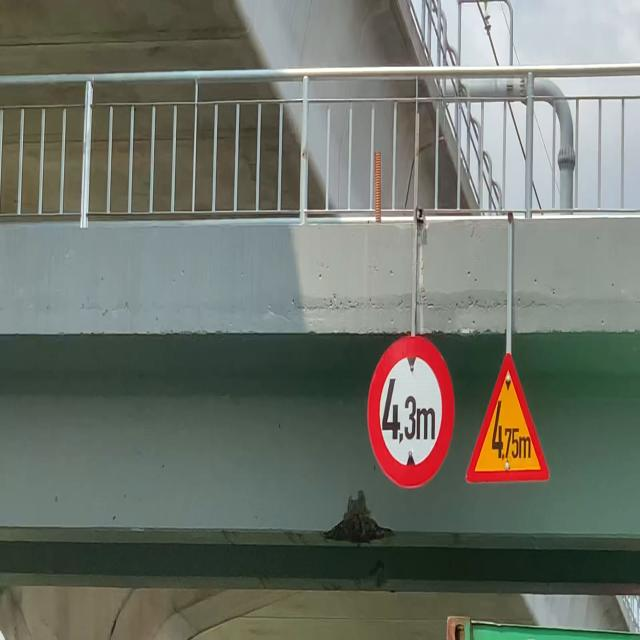Chieu cao toi da: (363, 337, 462, 488)
Nguy hiem: (463, 346, 552, 487)
